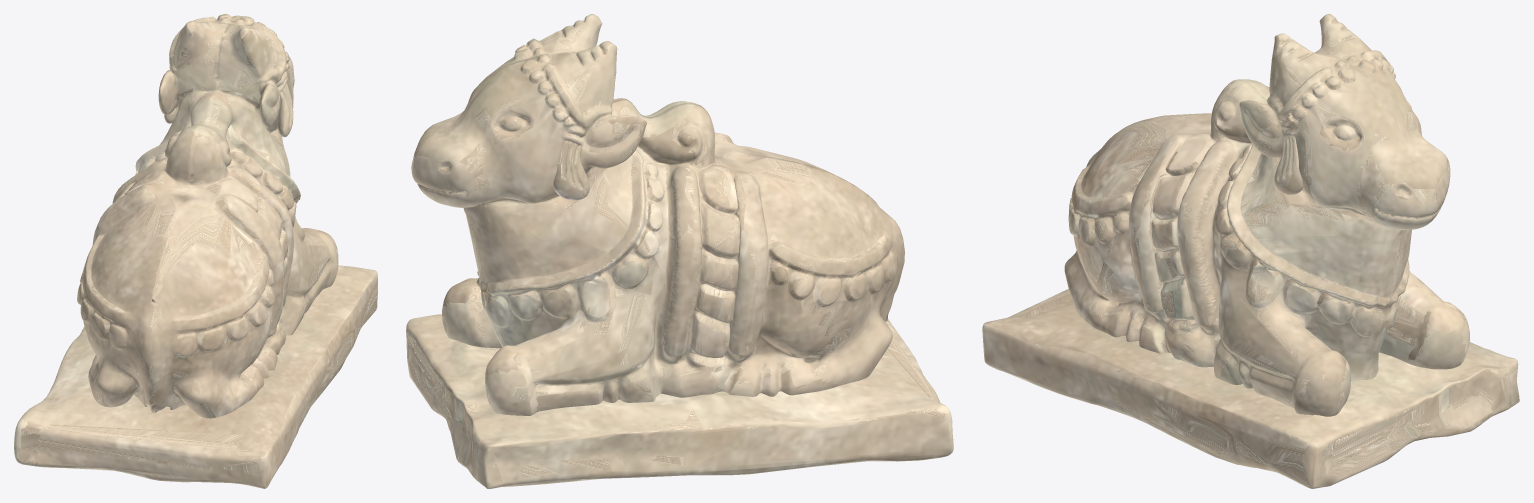
File: Nandi.glb
The picture shows the model from 3 angles, left to right: view 1: azimuth 30°, elevation 25°; view 2: azimuth 150°, elevation 25°; view 3: azimuth 270°, elevation 25°; orthographic projection. The views are drawn at different scales.
Visible parts, largest first — view 1: Nandi.001; view 2: Nandi.001; view 3: Nandi.001.
Boxes of the visible parts, box(x1,y1,x2,y2) form: Nandi.001: box(14, 14, 377, 488); Nandi.001: box(406, 14, 953, 488); Nandi.001: box(982, 14, 1519, 488).
Size of the model in its own units: 5.87 by 4.71 by 5.74.
